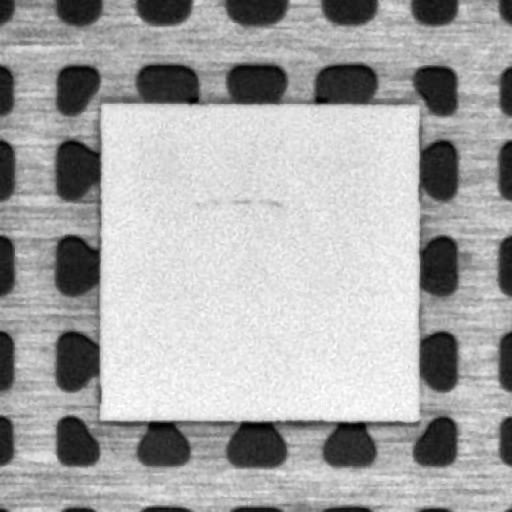DIE_CRACK: (192, 194, 334, 210)
